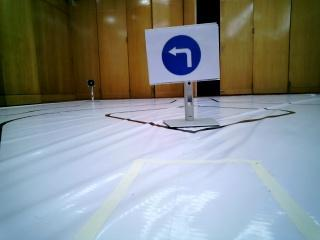left: (147, 30, 217, 79)
